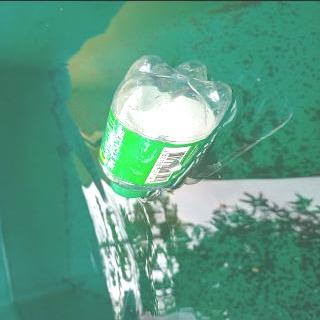bottle: (94, 51, 237, 200)
